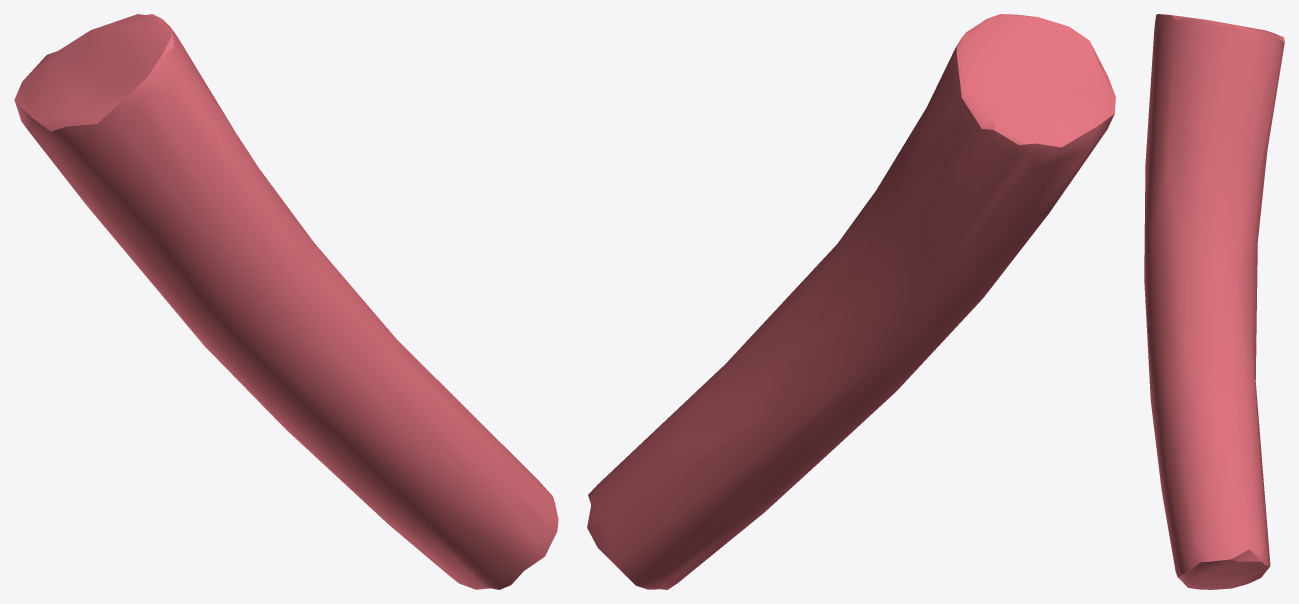
File: fma68706_fj2996.glb
3 renders of one model, left to right at view 1: azimuth 30°, elevation 25°; view 2: azimuth 150°, elevation 25°; view 3: azimuth 270°, elevation 25°, orthographic. The views are drawn at different scales.
Parts seen in each view (by area): view 1: FMA68706_FJ2996; view 2: FMA68706_FJ2996; view 3: FMA68706_FJ2996.
Part boxes in pixels (left/top/right/bottom): FMA68706_FJ2996: left=14, top=14, right=558, bottom=589; FMA68706_FJ2996: left=587, top=14, right=1115, bottom=589; FMA68706_FJ2996: left=1144, top=14, right=1284, bottom=589.
Size of the model in its own units: 0.00796 by 0.00956 by 0.00264.
